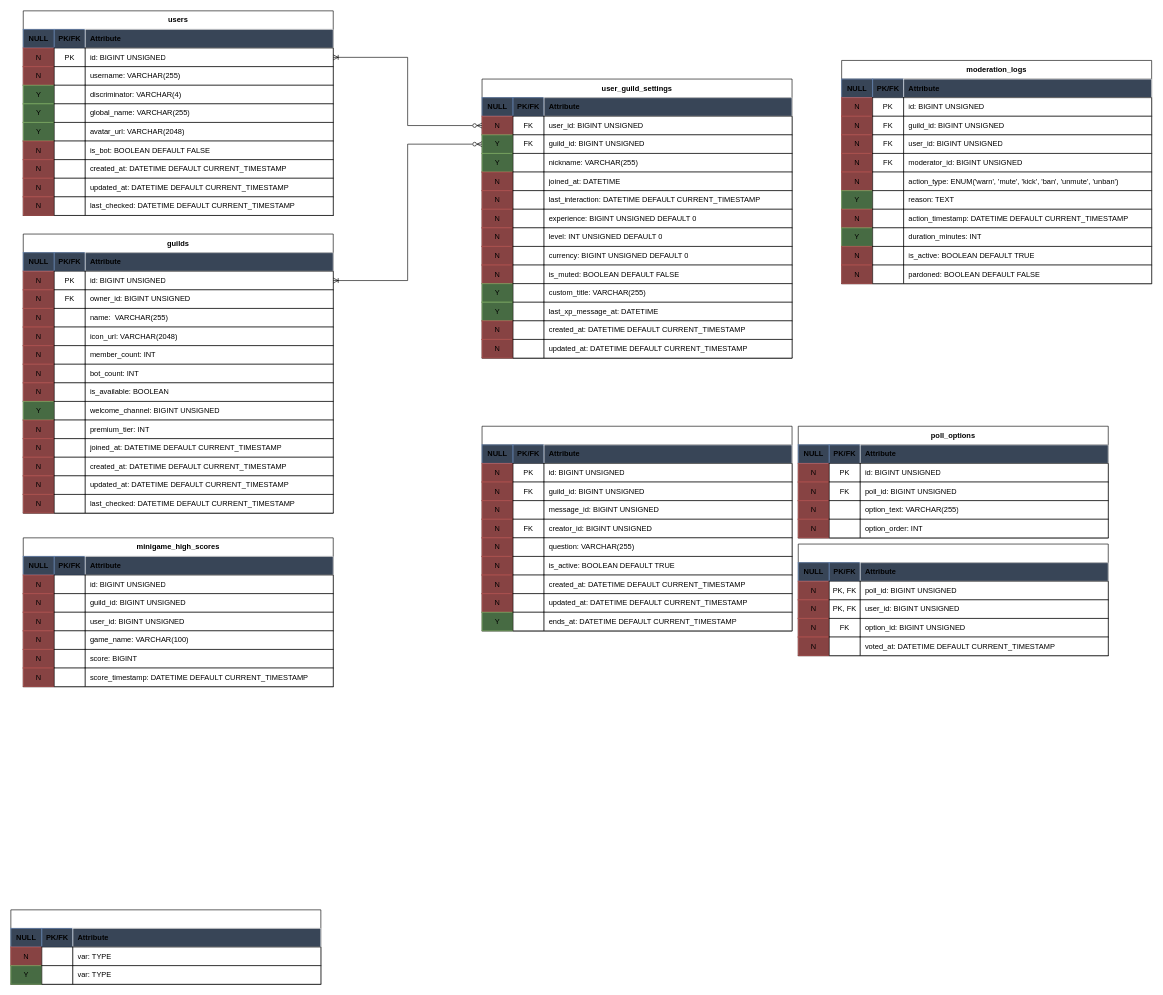
Image size: 1163x995. Some labels were removed from this diagram. Each missing label, with the box of its shape:
poll_votes: (798, 543, 1108, 656)
polls: (481, 426, 792, 631)
table: (10, 909, 321, 984)
